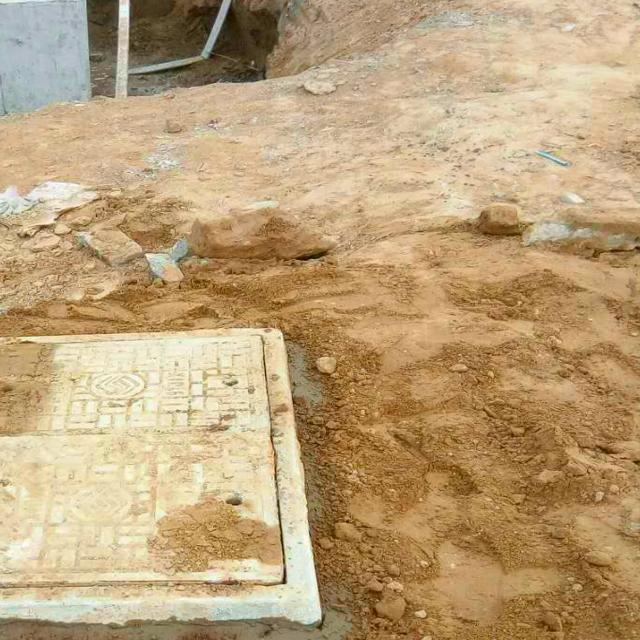good: (0, 328, 325, 624)
